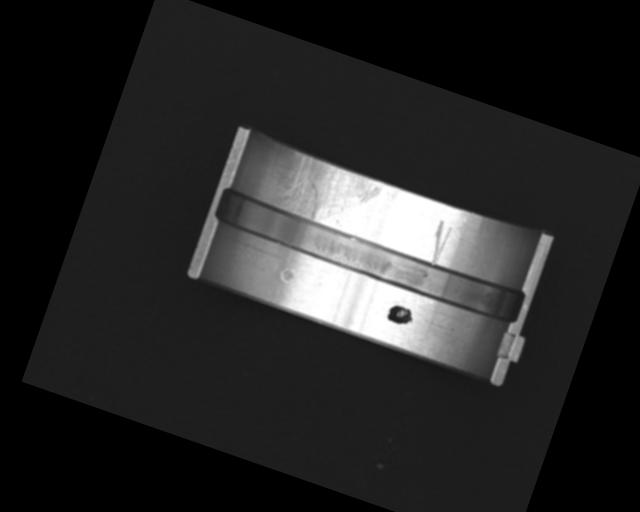blot: (385, 301, 416, 328)
bruise: (278, 263, 297, 285)
gap: (212, 186, 527, 327)
nick: (423, 218, 454, 267)
scratch: (267, 146, 384, 240)
